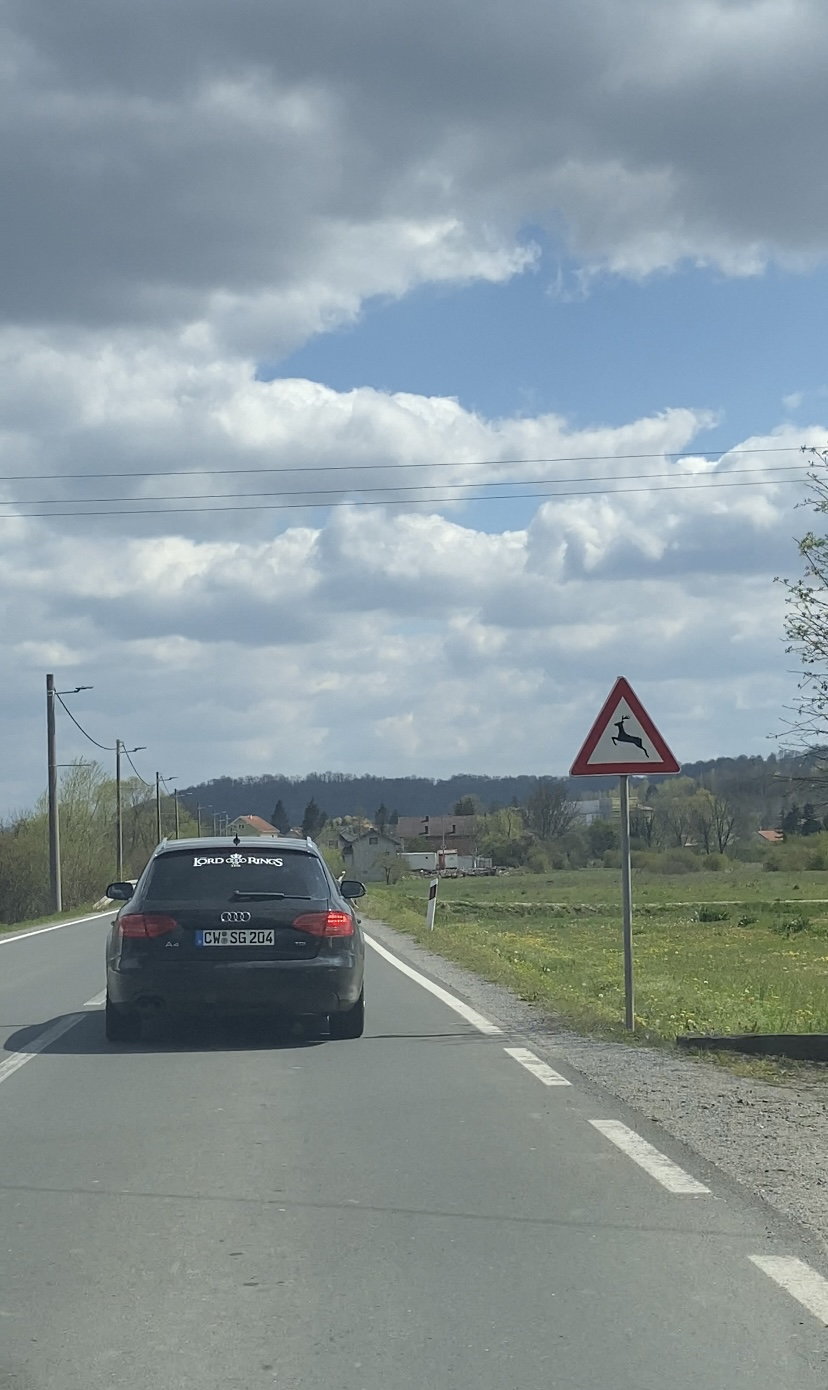Divljač na cesti: (569, 675, 681, 776)
